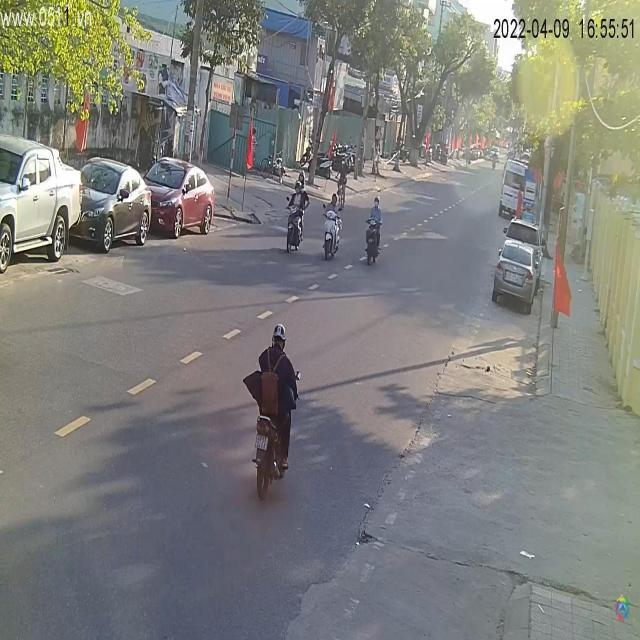car: (1, 135, 83, 276), (74, 158, 155, 253), (141, 157, 216, 240), (492, 230, 543, 316), (499, 159, 539, 225)
motorcycle: (250, 381, 297, 506), (283, 185, 306, 252), (322, 199, 342, 260), (363, 209, 383, 268)
